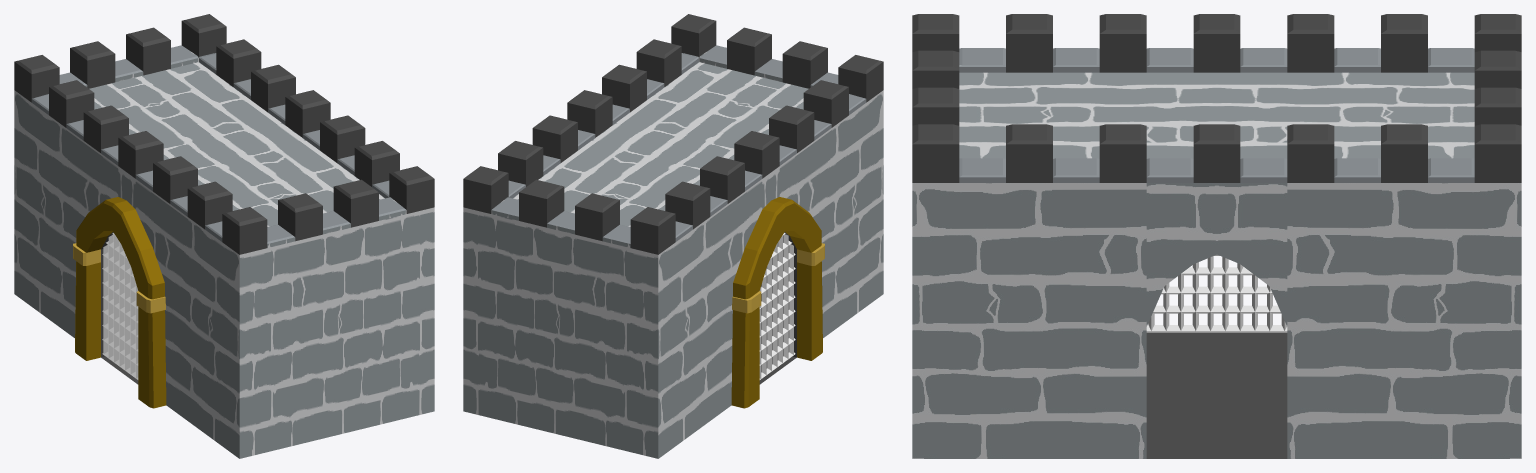
Rendered from Castle.fbx.
3 views of the same model, side by side, from view 1: azimuth 30°, elevation 25°; view 2: azimuth 150°, elevation 25°; view 3: azimuth 270°, elevation 25° (orthographic). The views are drawn at different scales.
Parts seen in each view (by area): view 1: Gate, Plane; view 2: Gate, Plane; view 3: Gate, Plane.
Boxes of the visible parts, x1,y1,x2,y2 form: Gate: [14, 14, 434, 458]; Plane: [102, 233, 138, 379]; Gate: [463, 14, 883, 458]; Plane: [759, 233, 795, 379]; Gate: [912, 14, 1521, 458]; Plane: [1146, 254, 1287, 332].
Size of the model in its own units: 218 by 230 by 400.
